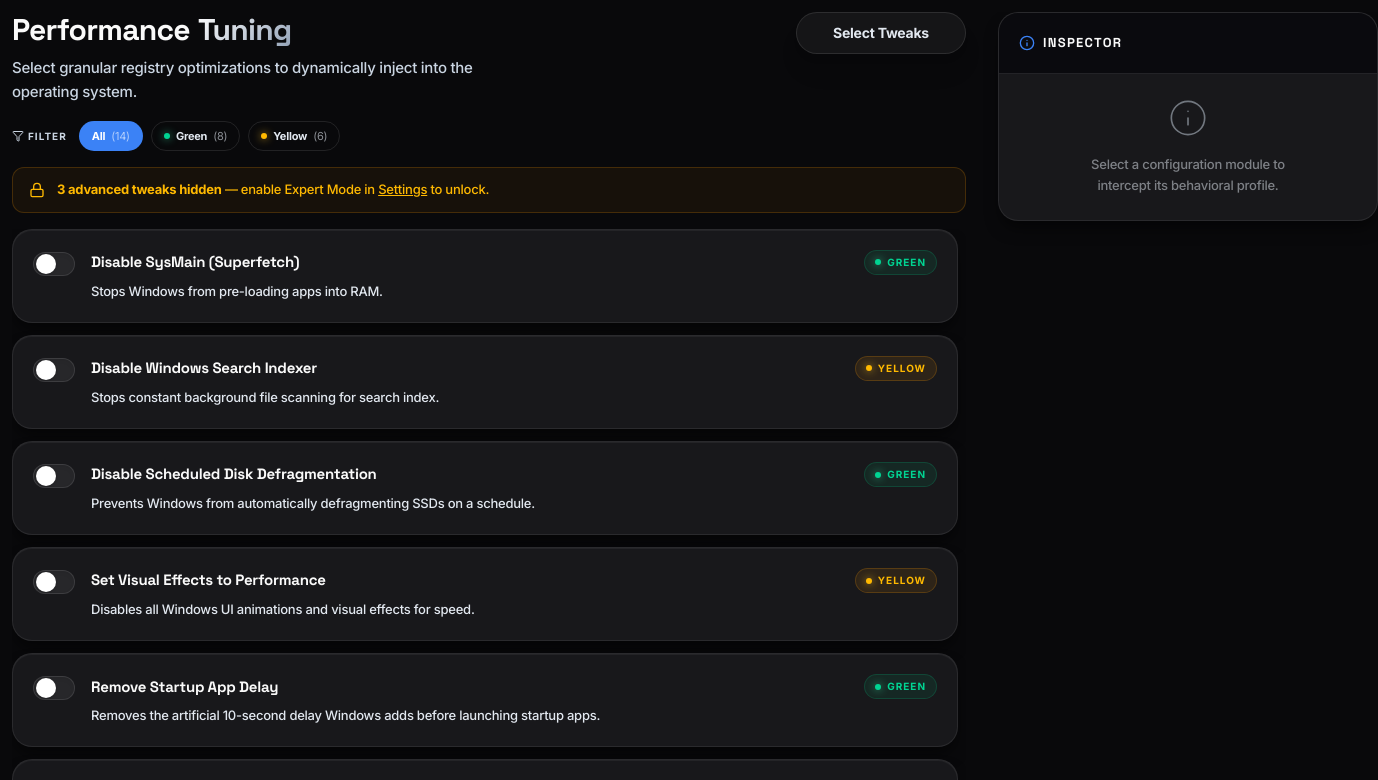
TweaksPage › shows floating batch bar when a tweak toggle is selected
This screenshot has width=1378, height=780.
// Click the outer toggle wrapper (parent of the track)
Click the element named "Toggle selection".
click(54, 264)  # box [33,252,75,276]
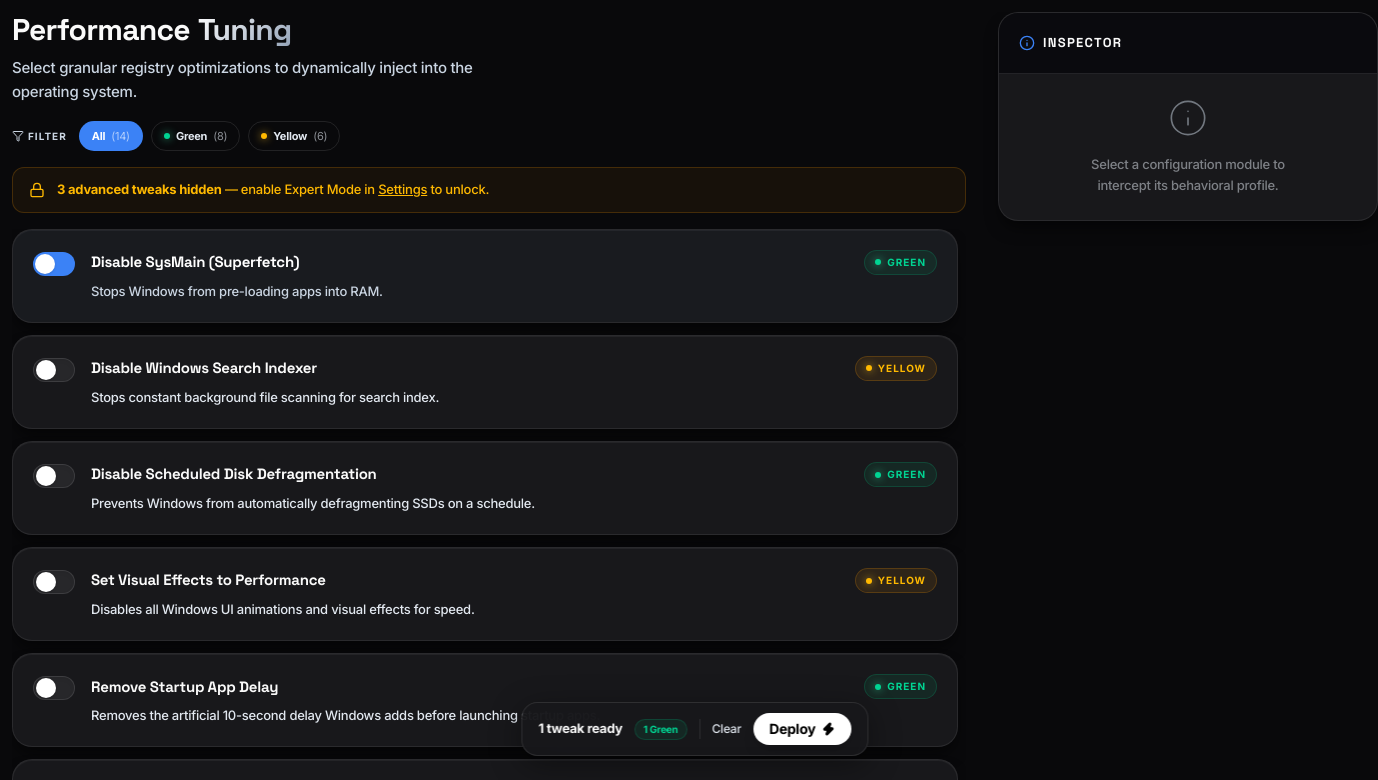
Now the text "1 tweak ready" is shown, box [538,719,622,739]
